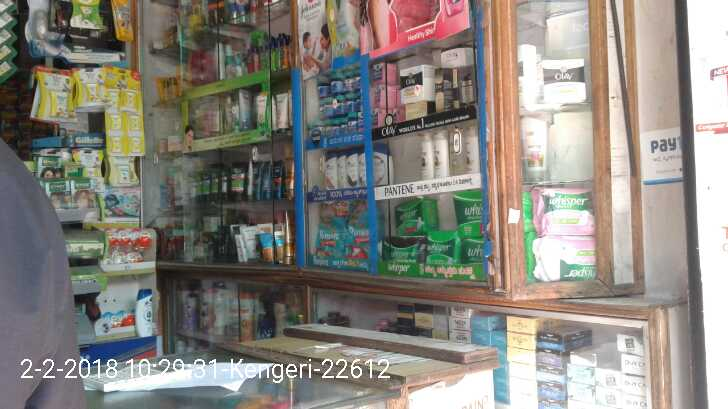beauty: (518, 116, 549, 181), (541, 58, 586, 100), (397, 65, 427, 103), (371, 143, 394, 187), (462, 124, 479, 176), (433, 130, 449, 179), (417, 134, 433, 181), (322, 150, 336, 195), (344, 147, 358, 189), (335, 150, 346, 194)
pharmacy: (528, 187, 595, 236), (536, 237, 598, 281), (315, 198, 344, 257), (394, 199, 435, 237), (345, 202, 371, 260), (376, 238, 425, 265), (424, 226, 458, 263), (332, 92, 344, 116), (332, 77, 346, 97), (320, 98, 333, 119), (316, 79, 329, 97), (346, 99, 357, 118)
